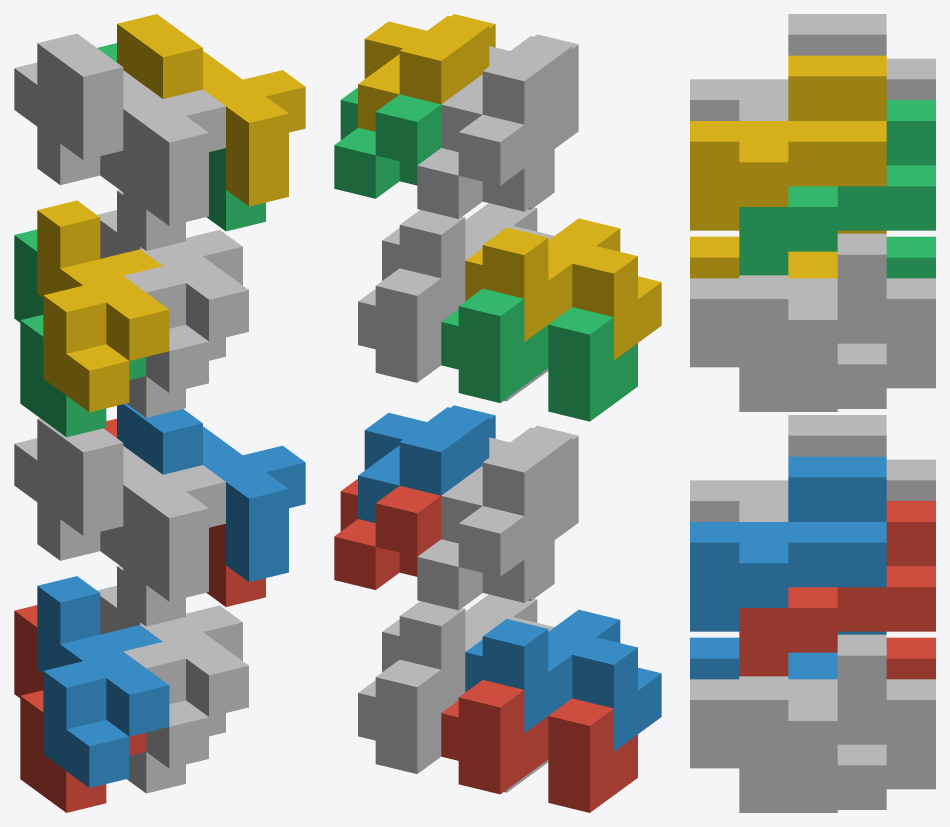
Rendered from tiling.obj.
3 views of the same model, side by side, from view 1: azimuth 30°, elevation 25°; view 2: azimuth 150°, elevation 25°; view 3: azimuth 270°, elevation 25° (orthographic). The views are drawn at different scales.
Visible parts, largest first — view 1: copy_1_domain_4, copy_1_domain_2, copy_2_domain_4, copy_2_domain_2, copy_2_domain_8, copy_2_domain_6, copy_1_domain_6, copy_1_domain_8, copy_2_domain_1, copy_2_domain_3, copy_1_domain_3, copy_1_domain_1 (+4 smaller); view 2: copy_1_domain_1, copy_1_domain_3, copy_1_domain_4, copy_1_domain_2, copy_2_domain_1, copy_2_domain_3, copy_2_domain_4, copy_2_domain_2, copy_2_domain_6, copy_2_domain_8, copy_2_domain_7, copy_2_domain_5 (+4 smaller); view 3: copy_2_domain_6, copy_2_domain_8, copy_1_domain_6, copy_1_domain_8, copy_2_domain_5, copy_2_domain_7, copy_1_domain_5, copy_1_domain_7, copy_2_domain_2, copy_2_domain_4, copy_1_domain_2, copy_1_domain_4 (+4 smaller).
Part boxes in pixels (box(x1,y1,x2,y2)): copy_1_domain_4: box(37, 200, 169, 412); copy_1_domain_2: box(37, 576, 169, 787); copy_2_domain_4: box(37, 33, 225, 225); copy_2_domain_2: box(37, 418, 225, 601); copy_2_domain_8: box(117, 14, 305, 206); copy_2_domain_6: box(117, 403, 305, 581); copy_1_domain_6: box(117, 565, 248, 768); copy_1_domain_8: box(117, 190, 248, 392); copy_2_domain_1: box(14, 438, 185, 626); copy_2_domain_3: box(14, 62, 185, 250); copy_1_domain_3: box(14, 229, 146, 437); copy_1_domain_1: box(14, 605, 146, 812); copy_1_domain_1: box(441, 680, 637, 812); copy_1_domain_3: box(441, 288, 637, 421); copy_1_domain_4: box(465, 218, 661, 360); copy_1_domain_2: box(465, 609, 661, 751); copy_2_domain_1: box(417, 499, 554, 610); copy_2_domain_3: box(417, 107, 554, 218); copy_2_domain_4: box(441, 34, 578, 151); copy_2_domain_2: box(441, 425, 578, 543); copy_2_domain_6: box(358, 405, 495, 522); copy_2_domain_8: box(358, 14, 495, 131); copy_2_domain_7: box(334, 87, 441, 198); copy_2_domain_5: box(334, 479, 441, 589); copy_2_domain_6: box(690, 456, 886, 631); copy_2_domain_8: box(690, 55, 886, 230); copy_1_domain_6: box(690, 634, 886, 768); copy_1_domain_8: box(690, 233, 886, 367); copy_2_domain_5: box(739, 501, 935, 676); copy_2_domain_7: box(739, 100, 935, 275); copy_1_domain_5: box(739, 679, 935, 812); copy_1_domain_7: box(739, 278, 935, 411); copy_2_domain_2: box(690, 415, 886, 521); copy_2_domain_4: box(690, 14, 886, 120); copy_1_domain_2: box(690, 631, 886, 679); copy_1_domain_4: box(690, 230, 886, 278).
Bounding box in the file's own units: 6 × 17 × 5.
